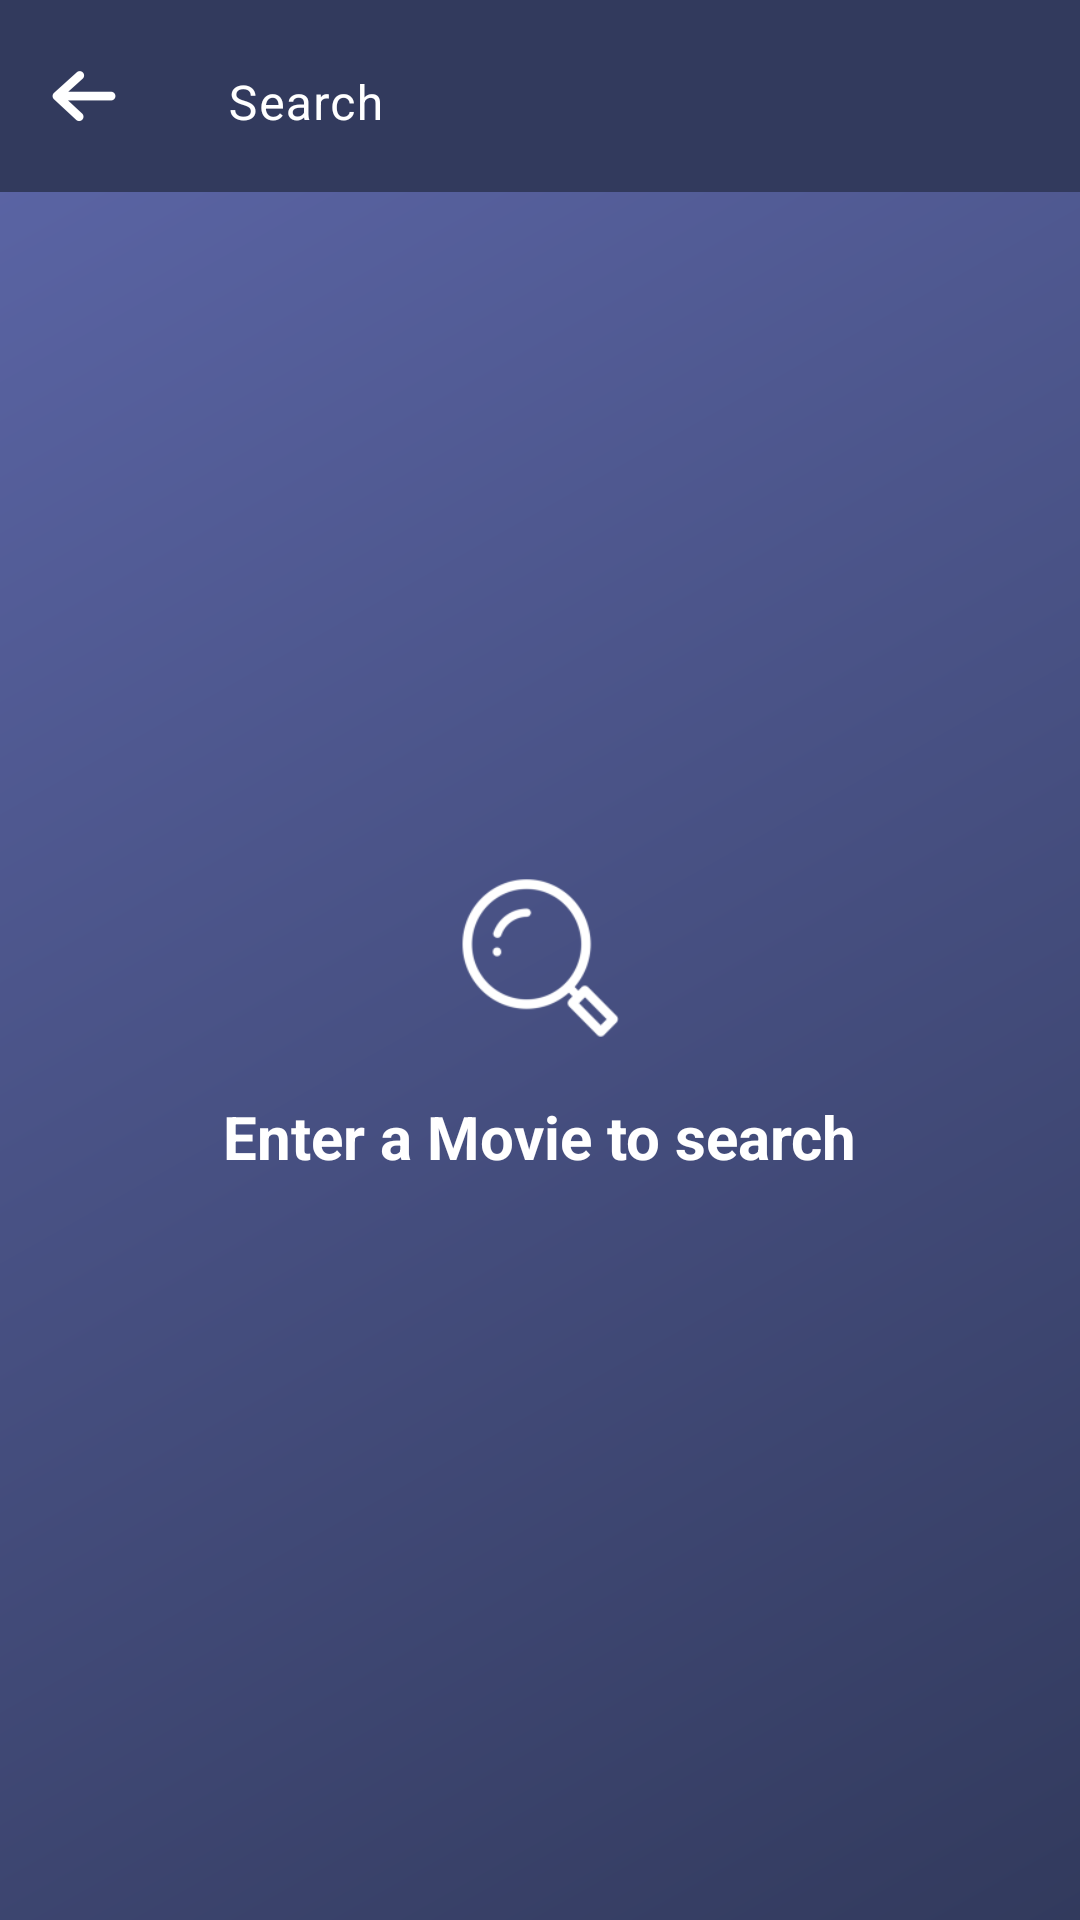

Named icons in this screenshot (1080 x 1920) and their centers, (x=x, y=y):
back: (x=84, y=96)
